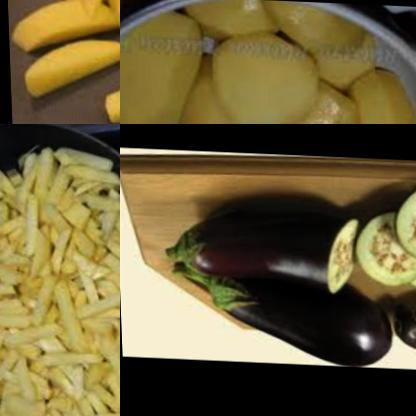eggplant: (120, 200, 363, 298), (165, 277, 390, 367), (343, 184, 416, 290), (389, 285, 416, 365)
potato: (0, 131, 120, 416), (4, 0, 120, 124), (208, 23, 319, 124), (120, 10, 202, 124), (253, 0, 361, 71), (176, 51, 253, 124), (335, 58, 416, 124), (306, 36, 381, 101), (190, 0, 278, 47), (274, 93, 358, 124)
